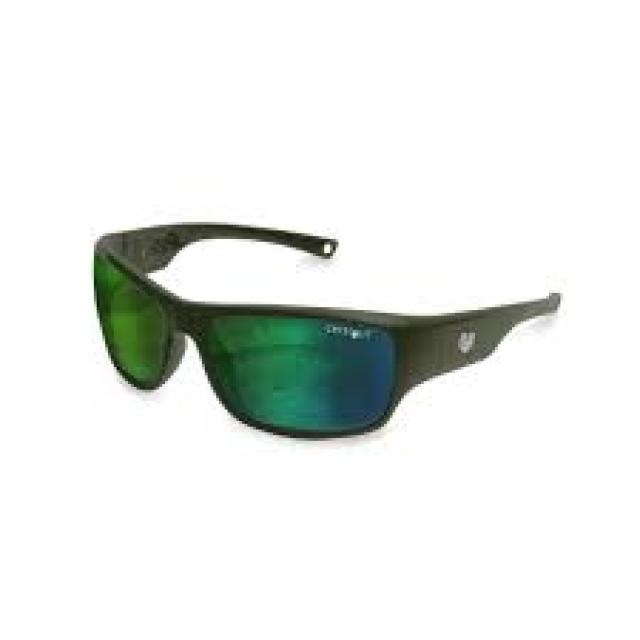sunglasses: (74, 219, 410, 441)
